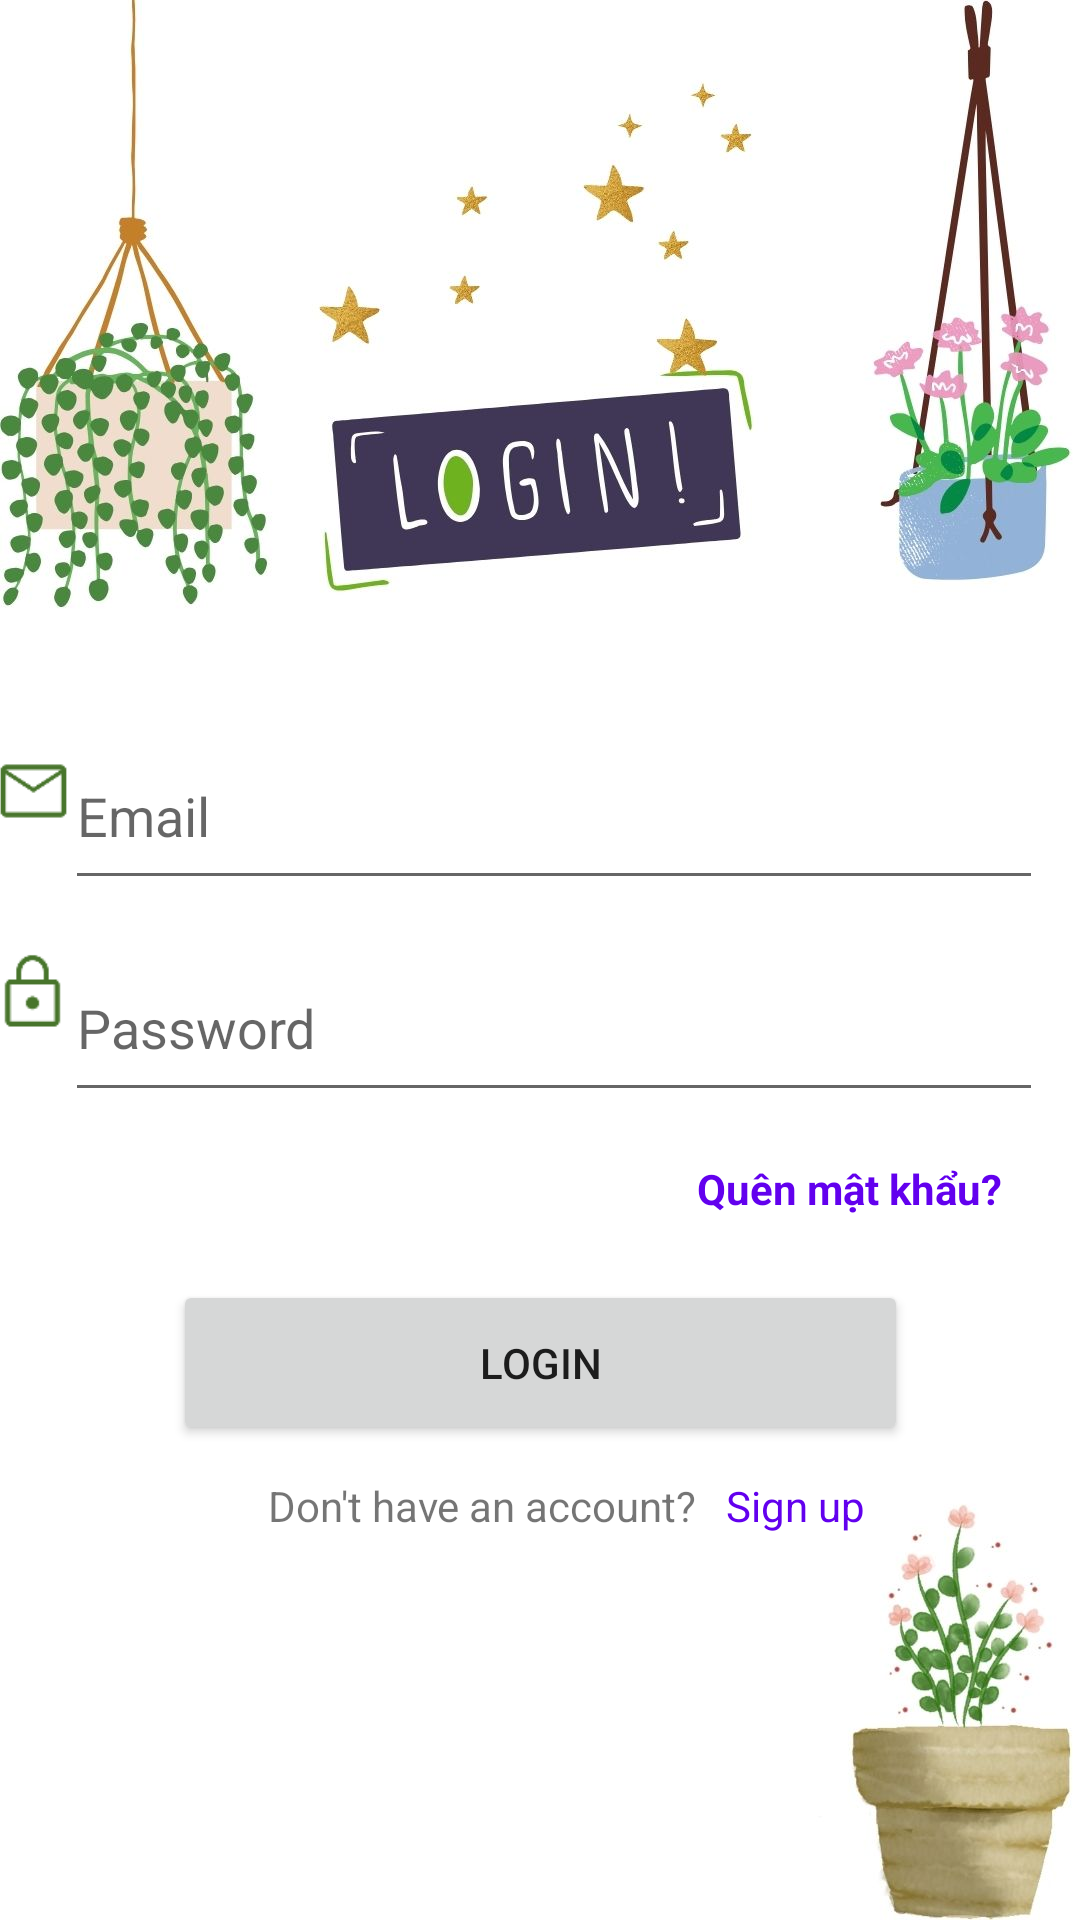

Locate icon controls on the screen. Image size 1080×1920, boxes as bbox(x1, y1, x2, y2).
lock: bbox(4, 955, 61, 1027)
